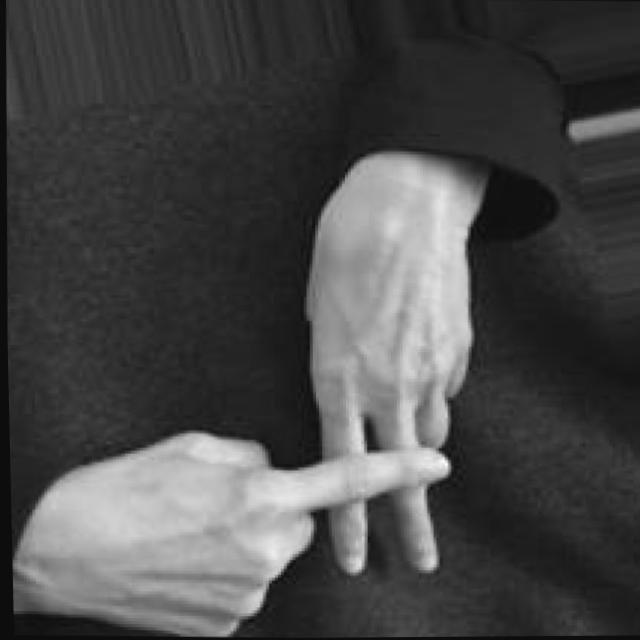A: (84, 309, 480, 639)
